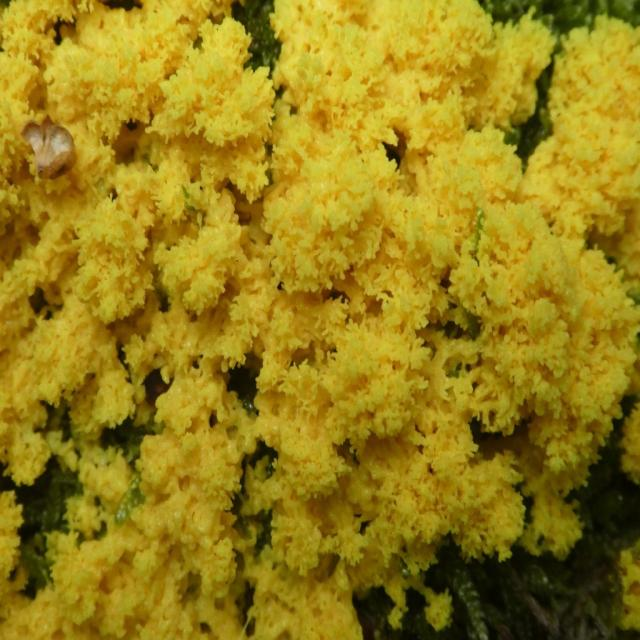Dog_vomit_slime_mold: (3, 10, 636, 632)
